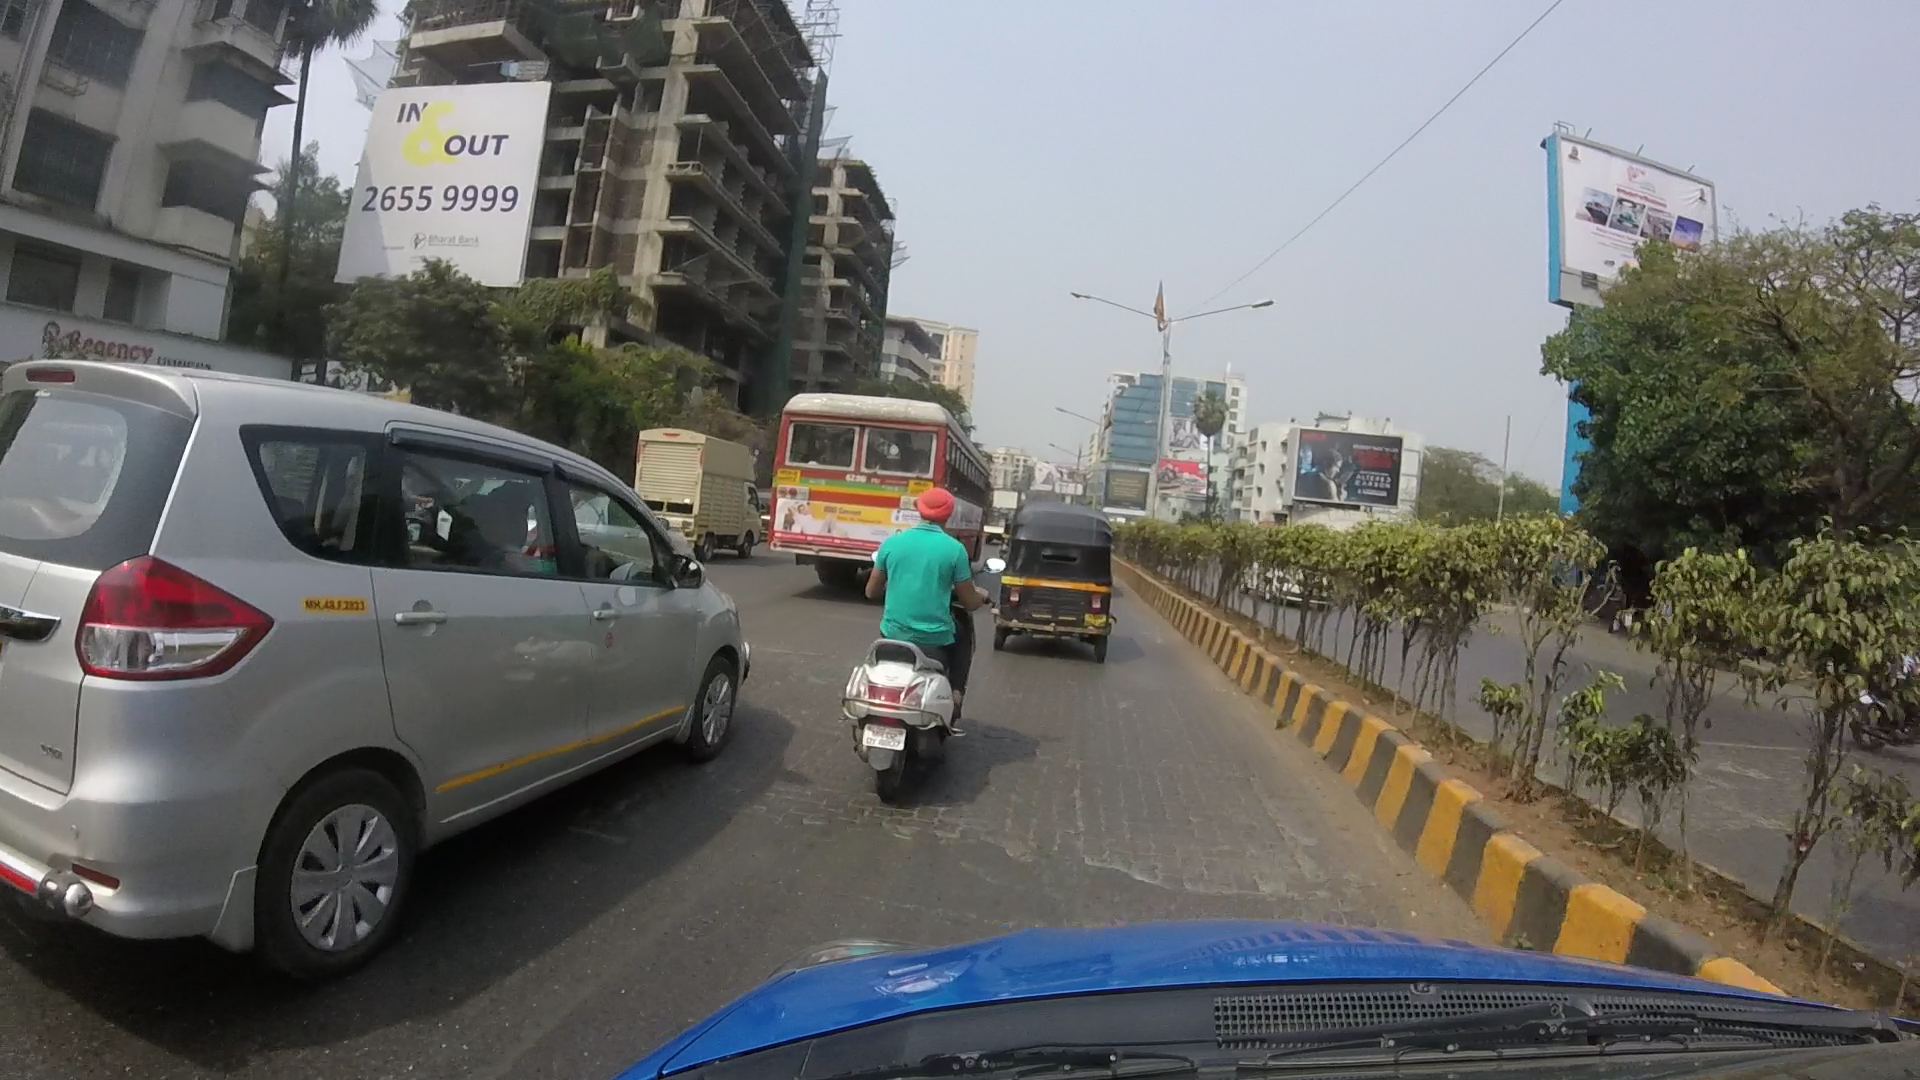bike/scooter: (827, 475, 1025, 785)
bus: (781, 348, 992, 575)
car: (12, 342, 760, 963)
rickshaw: (996, 469, 1135, 684)
truck: (615, 398, 786, 554)
